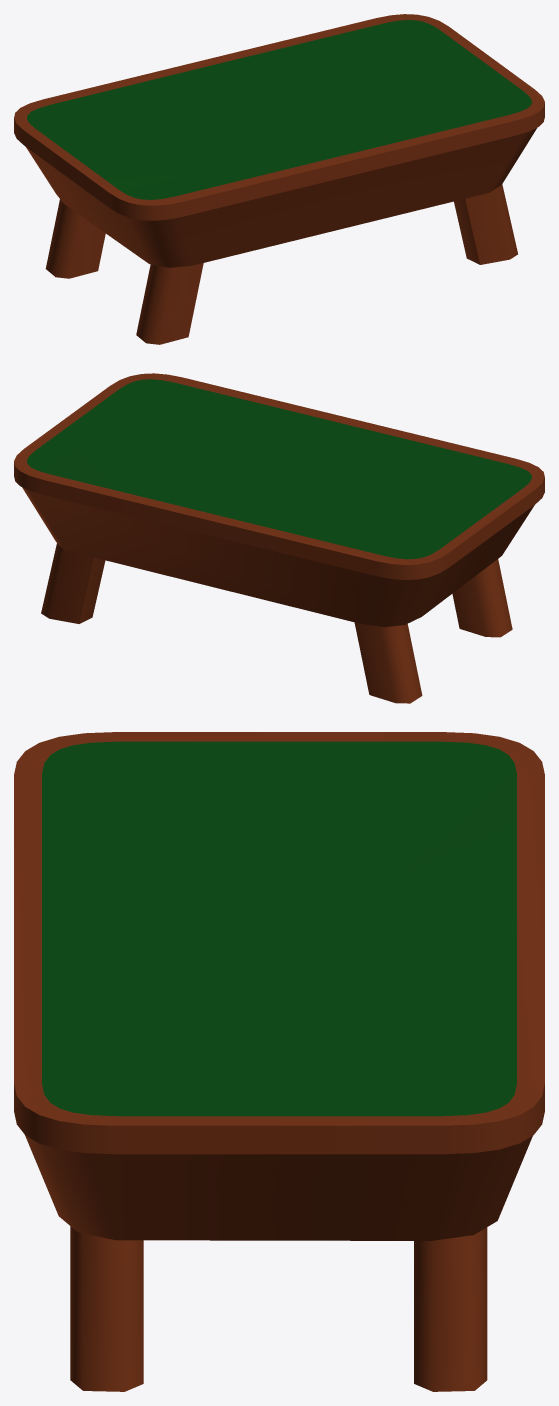
File: billiard table_ㅣ 1.fbx
The picture shows the model from 3 angles, top to bottom: view 1: azimuth 30°, elevation 25°; view 2: azimuth 150°, elevation 25°; view 3: azimuth 270°, elevation 25°; orthographic projection. The views are drawn at different scales.
Parts seen in each view (by area): view 1: sinuca.006; view 2: sinuca.006; view 3: sinuca.006.
Part boxes in pixels (left/top/right/bottom): sinuca.006: left=14, top=14, right=544, bottom=344; sinuca.006: left=14, top=373, right=544, bottom=703; sinuca.006: left=14, top=732, right=544, bottom=1391.
Size of the model in its own units: 316 by 180 by 108.
